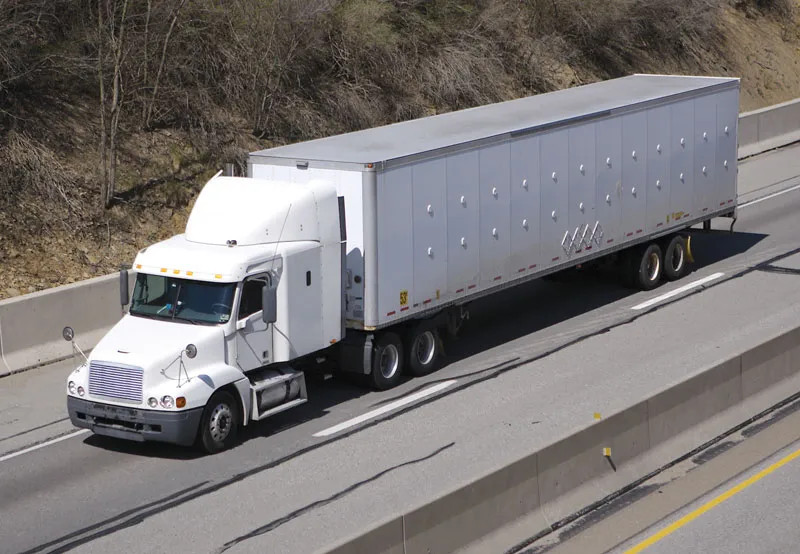truck: (61, 72, 743, 455)
